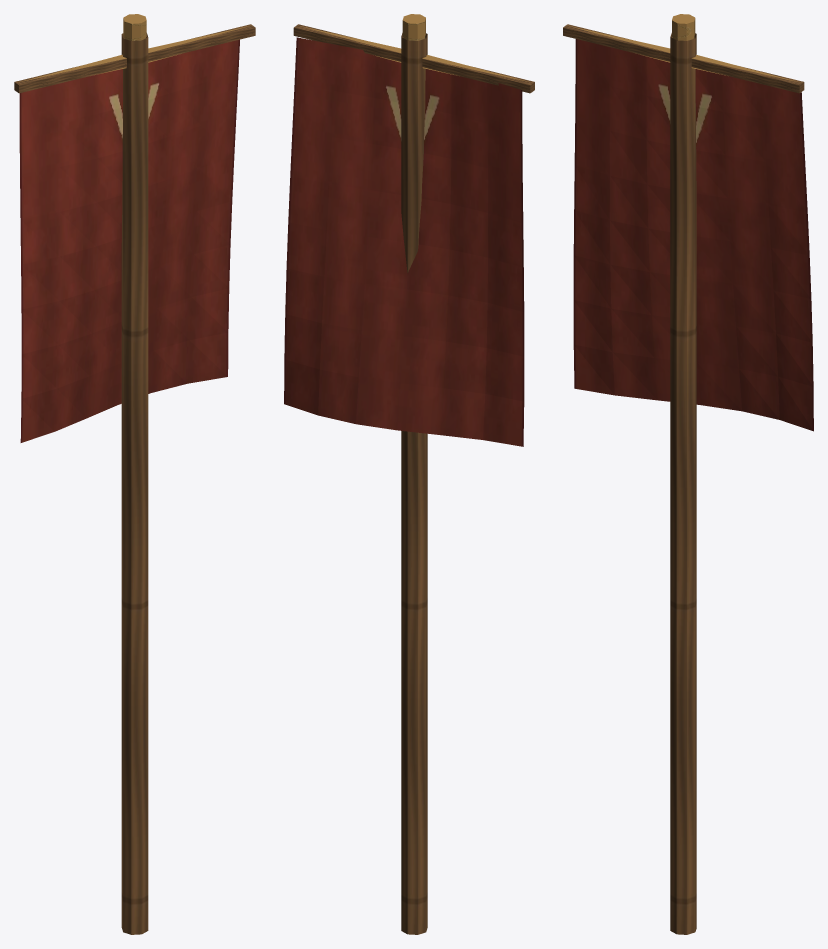
File: ae_battle_banner_atk_lod0.glb
3 renders of one model, left to right at view 1: azimuth 30°, elevation 25°; view 2: azimuth 150°, elevation 25°; view 3: azimuth 330°, elevation 25°, orthographic.
Visible parts, largest first — view 1: ae_battle_banner_atk_lod0; view 2: ae_battle_banner_atk_lod0; view 3: ae_battle_banner_atk_lod0.
Part boxes in pixels (box(x1,y1,x2,y2)): ae_battle_banner_atk_lod0: box(14, 14, 255, 934); ae_battle_banner_atk_lod0: box(284, 14, 534, 934); ae_battle_banner_atk_lod0: box(563, 14, 813, 934).
Size of the model in its own units: 3.6 by 13.24 by 0.7532.
1 material, 1 textured.
